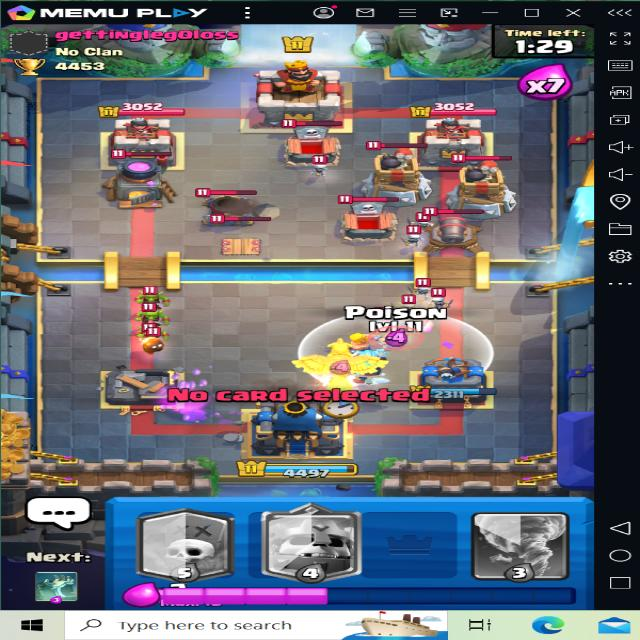bomb-tower: (449, 153, 522, 214), (364, 141, 432, 205)
cannon: (416, 205, 497, 253)
fire-spirit: (142, 333, 178, 359)
furnace: (101, 145, 178, 207)
goblin: (134, 300, 171, 332), (137, 280, 174, 307)
mortar: (192, 187, 266, 222)
skeleton: (394, 292, 429, 317), (407, 272, 438, 298), (308, 156, 340, 178), (409, 206, 436, 229), (429, 287, 455, 310), (398, 226, 425, 248)
tesla-closed: (199, 212, 279, 260)
tombstone: (333, 191, 398, 247), (273, 117, 345, 166)
